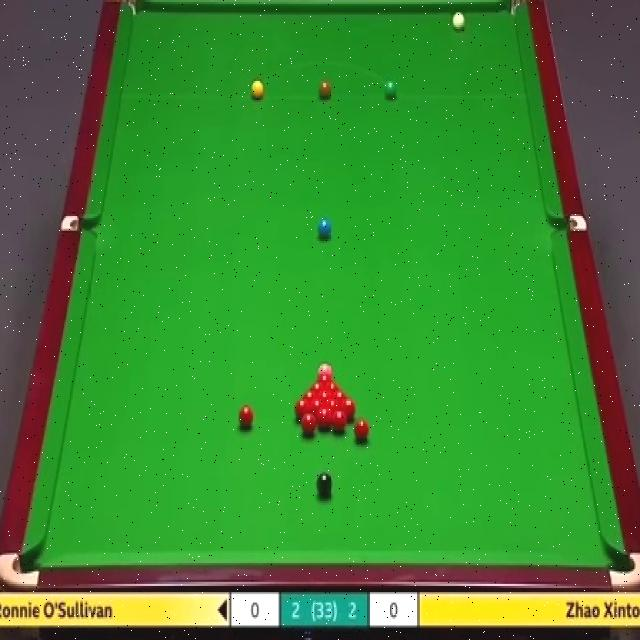black-ball: (315, 470, 331, 496)
blue-ball: (317, 219, 332, 237)
brown-ball: (318, 79, 332, 100)
green-ball: (383, 78, 398, 100)
pink-ball: (318, 363, 333, 378)
red-ball: (298, 412, 317, 435), (354, 418, 370, 443), (338, 397, 354, 419), (317, 406, 332, 429), (238, 405, 253, 428), (332, 410, 347, 432), (294, 398, 308, 420), (326, 400, 339, 420), (304, 390, 316, 402), (319, 391, 330, 404), (318, 375, 329, 387)
white-ball: (451, 14, 466, 31)
yellow-ball: (251, 79, 264, 100)
